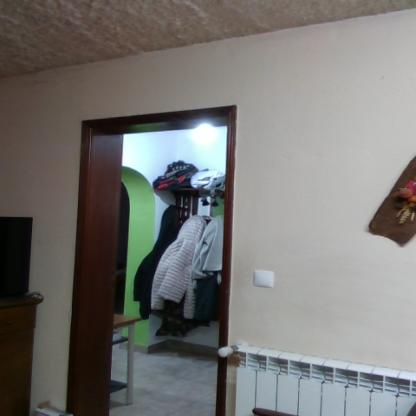open: (62, 89, 252, 411)
